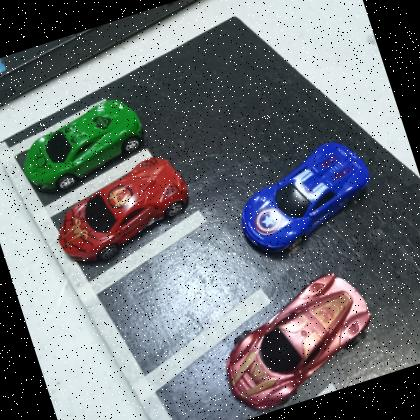Car: (203, 261, 393, 420), (224, 130, 387, 264), (41, 148, 201, 272), (8, 88, 156, 200)
